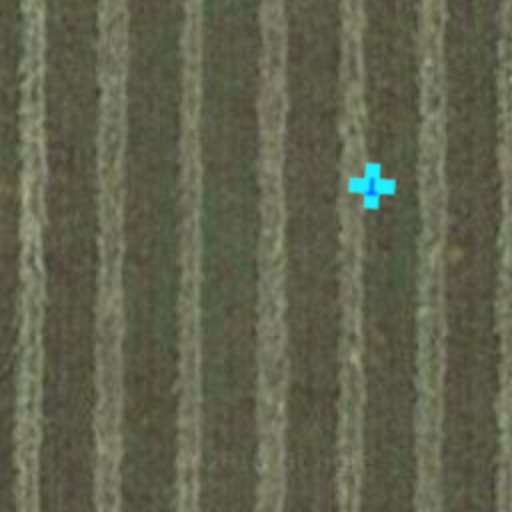cross: (346, 160, 398, 212)
